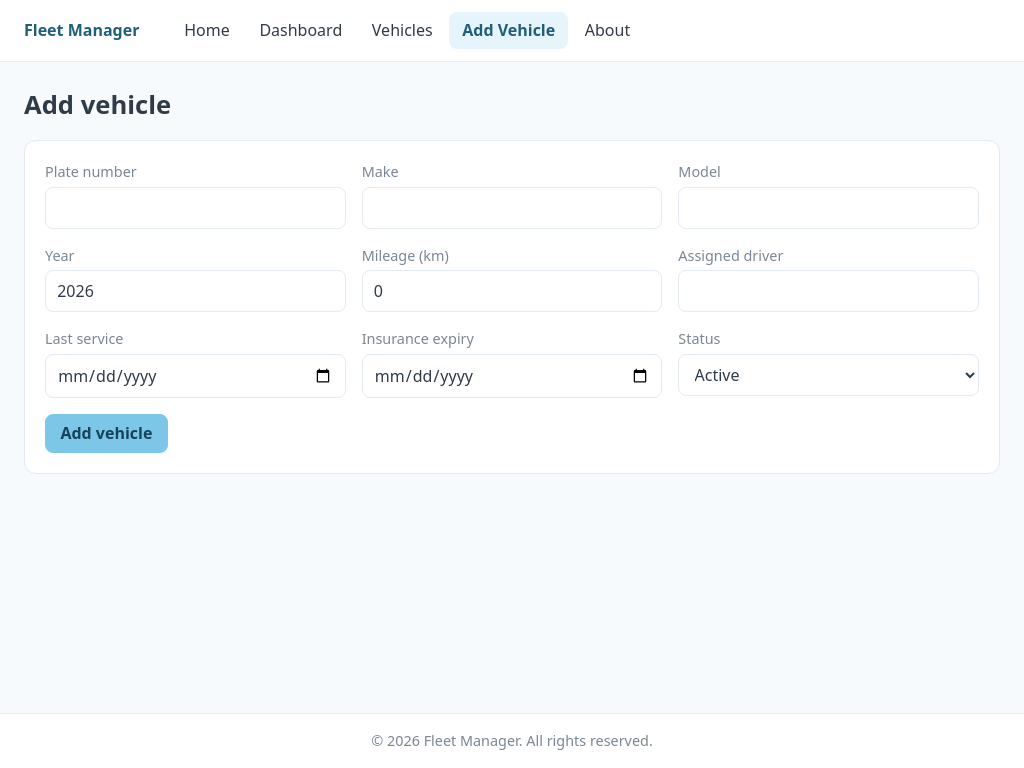
Scenario: add and edit › shows validation errors and does not submit an empty form
The width and height of the screenshot is (1024, 768).
Click the button "Add vehicle" at (106, 433), box [45,414,168,453]
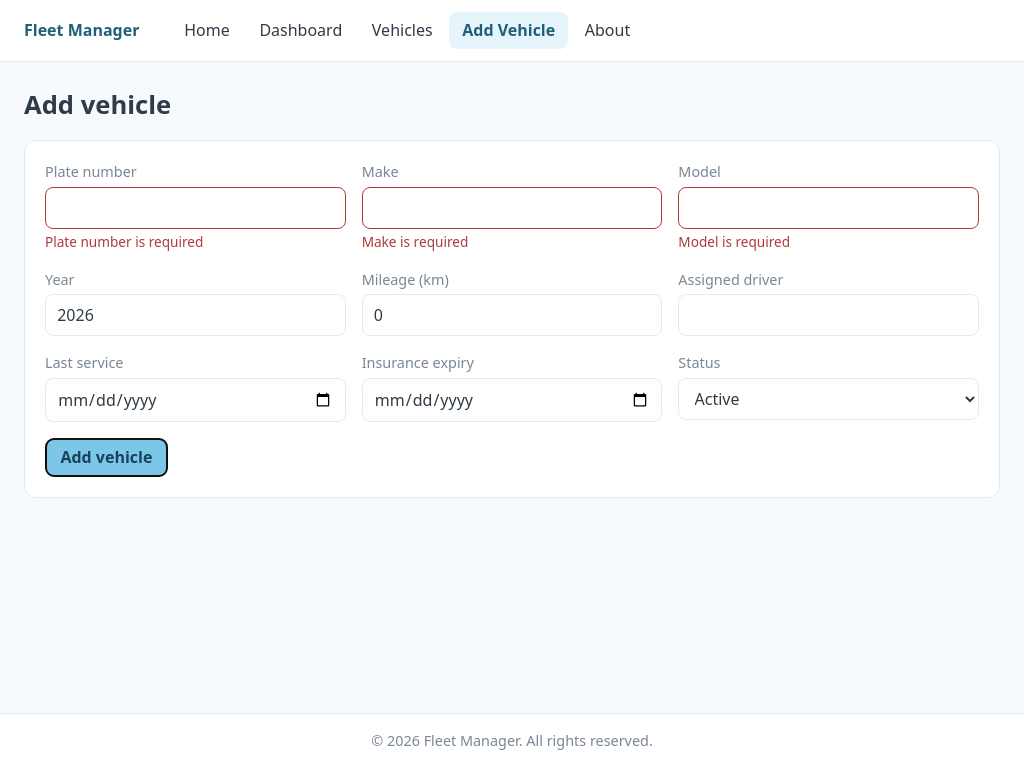
Expected: the heading "Add vehicle" is shown, [24,87,171,122]
Expected: the text "Plate number is required" is shown, [45,232,203,251]
